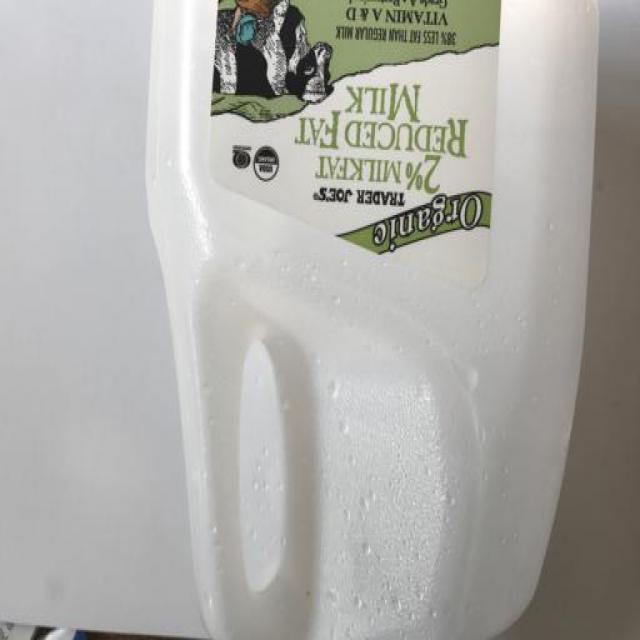Plastic: (150, 0, 600, 640)
